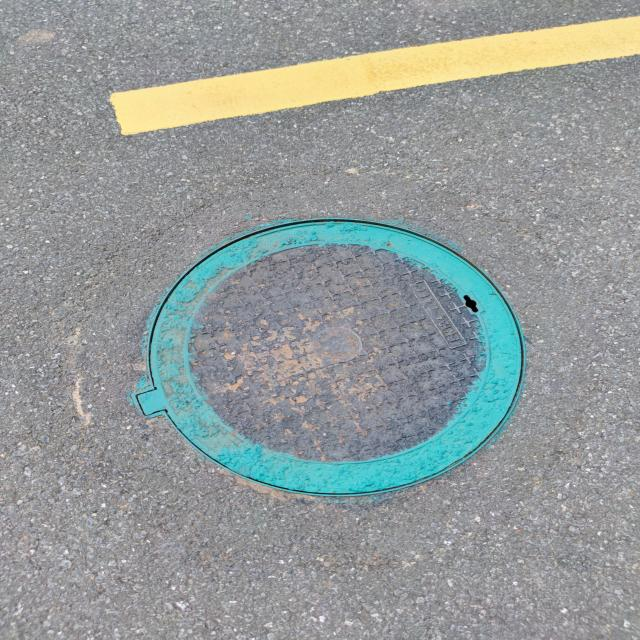Good: (133, 213, 534, 501)
